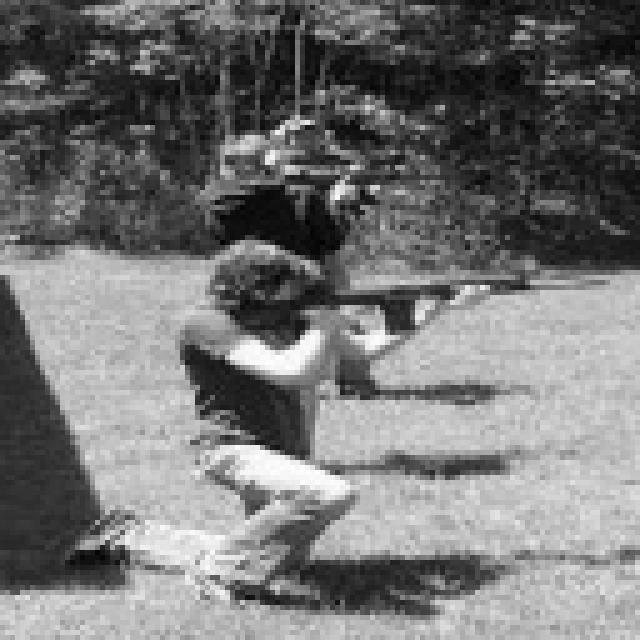Rifle: (200, 253, 554, 367), (236, 128, 468, 228)
